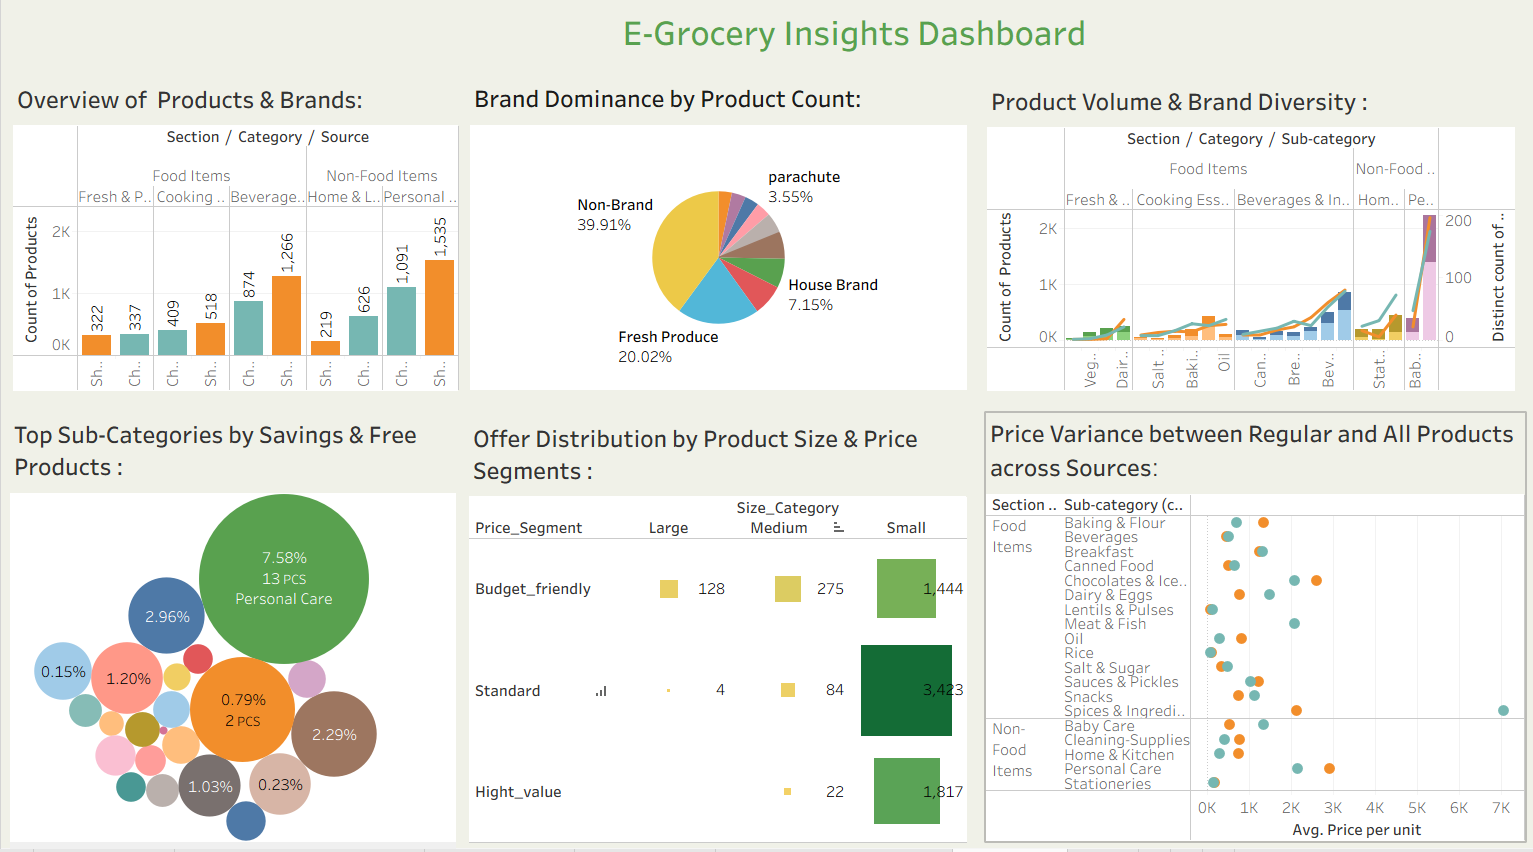

Layout of this report page (visuals, bound fields, positions):
{"tool":"tableau","page":{"name":"Dashboard ","canvas":[1000,1000],"units":"permille","ordinal":0},"visuals":[{"type":"title","box":[4.7,9.4,990.6,62.3]},{"type":"filter","title":"Category wise Savings Offer distribution","param":"[federated.00w9yl80rn0rpw1ftpgkq0athch6].[none:Source:nk]","box":[901,75.2,97.2,82.3]},{"type":"worksheet","title":"Brand dominance","mark":"Pie","box":[274.8,95.2,291.2,366.6]},{"type":"worksheet","title":"Overview","mark":"Automatic","rows":["Title"],"cols":["Section","Category","Source"],"box":[7,96.4,261.3,366.6]},{"type":"worksheet","title":"Product Vs Brand","mark":"Bar","rows":["Title","Brand"],"cols":["Section","Category","Sub-category"],"box":[577.6,98.7,309.9,364.3]},{"type":"filter","title":"Brand dominance","param":"[federated.00w9yl80rn0rpw1ftpgkq0athch6].[none:Section:nk]","box":[903.4,162.2,91.1,83.4]},{"type":"filter","title":"Brand dominance","param":"[federated.00w9yl80rn0rpw1ftpgkq0athch6].[none:Category:nk]","box":[904,251.5,91.7,83.4]},{"type":"filter","title":"Brand dominance","param":"[federated.00w9yl80rn0rpw1ftpgkq0athch6].[none:Sub-category:nk]","box":[905.2,343.1,93.5,84.6]},{"type":"filter","title":"Category wise Savings Offer distribution","param":"[federated.00w9yl80rn0rpw1ftpgkq0athch6].[none:Savings_freeProduct_status:nk]","box":[904.6,438.3,96.6,78.7]},{"type":"worksheet","title":"Price variance between source ","mark":"Circle","rows":["Section (copy)_0954164427767808","Sub-category (copy)_0954164427788289"],"cols":["Std_per_unit_price"],"box":[577.6,488.8,313.4,498.2]},{"type":"worksheet","title":"Offer_distributions","mark":"Automatic","rows":["Price_Segment"],"cols":["Size_Category"],"box":[274.2,494.7,291.7,499.4]},{"type":"filter","title":"Brand dominance","param":"[federated.00w9yl80rn0rpw1ftpgkq0athch6].[none:Price_Segment:nk]","box":[906.5,531.1,97.2,78.7]},{"type":"filter","title":"Offer_distributions","param":"[federated.00w9yl80rn0rpw1ftpgkq0athch6].[none:Size_Category:nk]","box":[909.5,626.3,93.5,82.3]}]}

Visuals, with their boxes on the dashboard's canvas, which has no fixed pixel size, in thousandths of its width and height (x1, y1, x2, y2). These are canvas units, not pixel positions in the 1533x852 screenshot, which may show the page scaled, cropped or inside an application window:
title: region(5, 9, 995, 72)
"Category wise Savings Offer distribution" filter: region(901, 75, 998, 158)
"Brand dominance" worksheet (Pie marks): region(275, 95, 566, 462)
"Overview" worksheet: region(7, 96, 268, 463)
"Product Vs Brand" worksheet (Bar marks): region(578, 99, 888, 463)
"Brand dominance" filter: region(903, 162, 994, 246)
"Brand dominance" filter: region(904, 252, 996, 335)
"Brand dominance" filter: region(905, 343, 999, 428)
"Category wise Savings Offer distribution" filter: region(905, 438, 1001, 517)
"Price variance between source " worksheet (Circle marks): region(578, 489, 891, 987)
"Offer_distributions" worksheet: region(274, 495, 566, 994)
"Brand dominance" filter: region(906, 531, 1004, 610)
"Offer_distributions" filter: region(910, 626, 1003, 709)
